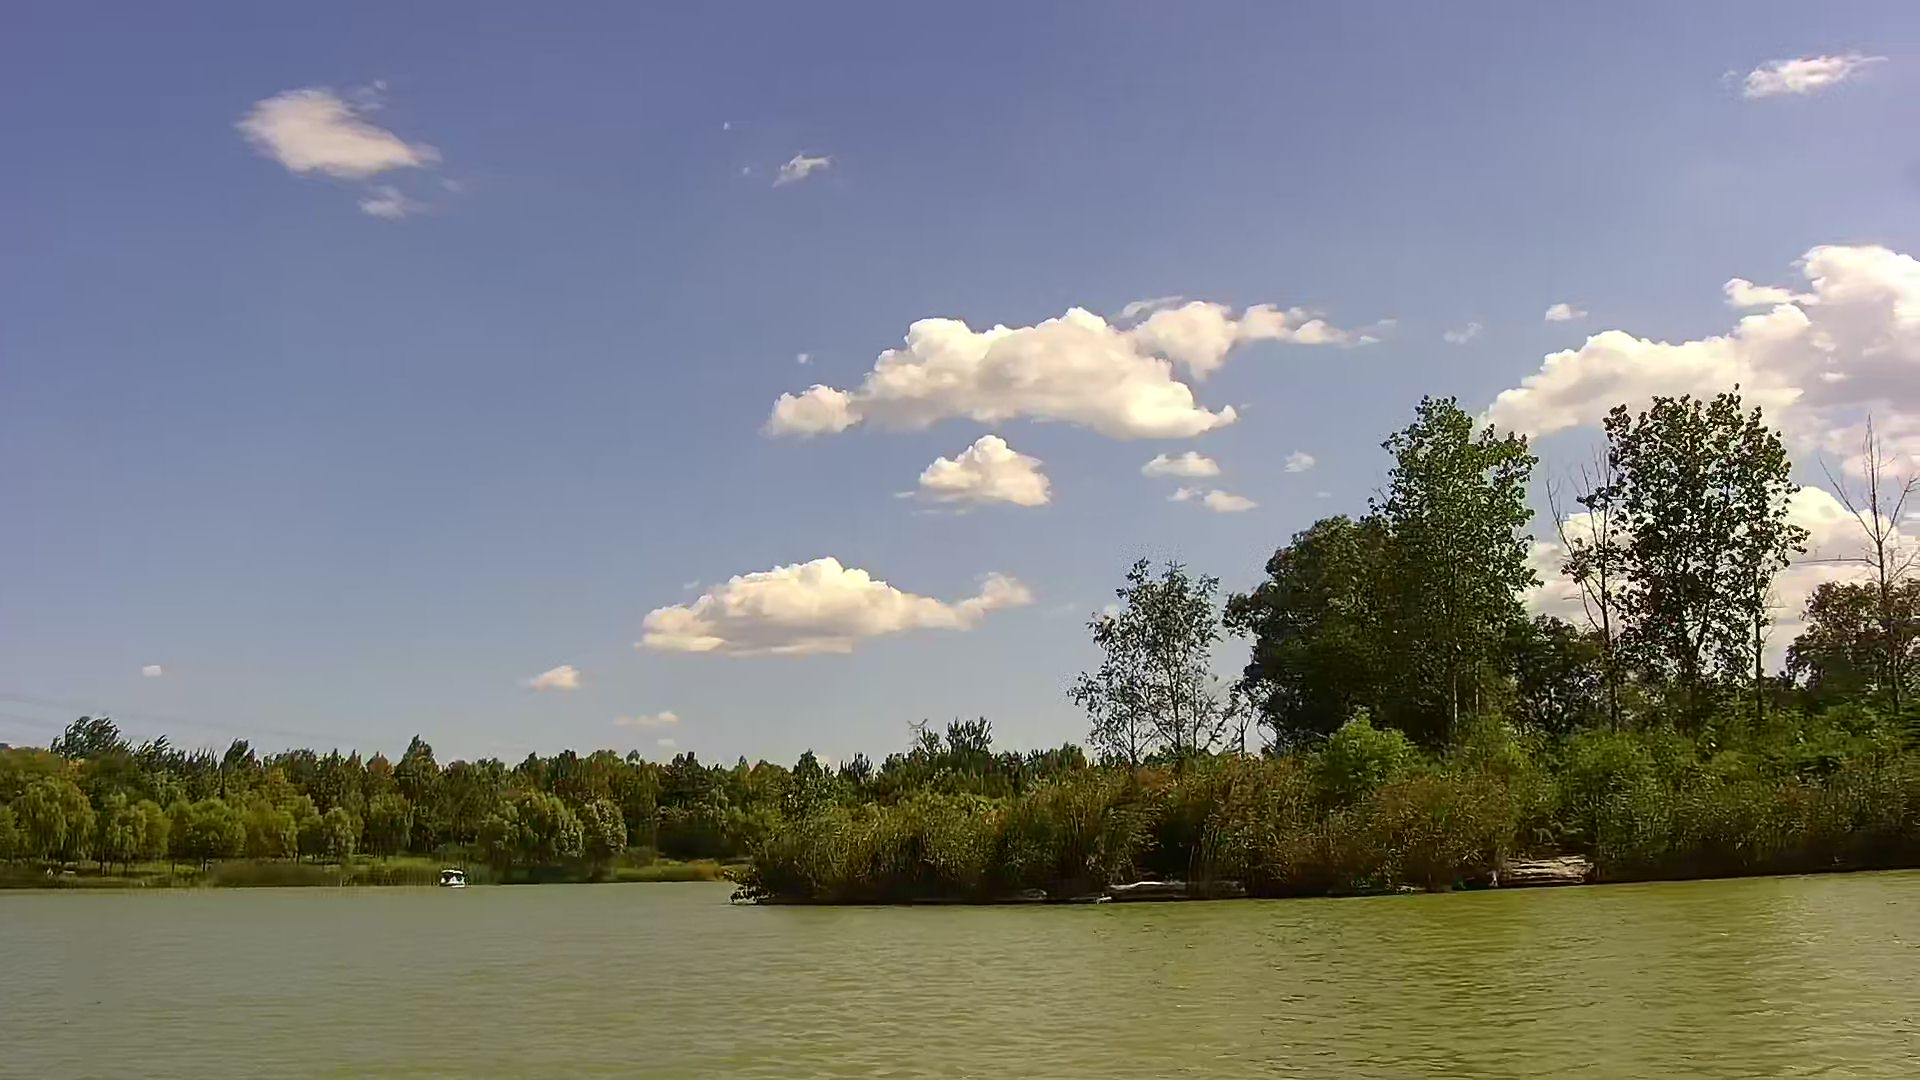boat: (436, 862, 464, 891)
rock: (1503, 858, 1589, 882), (1112, 880, 1195, 901)
